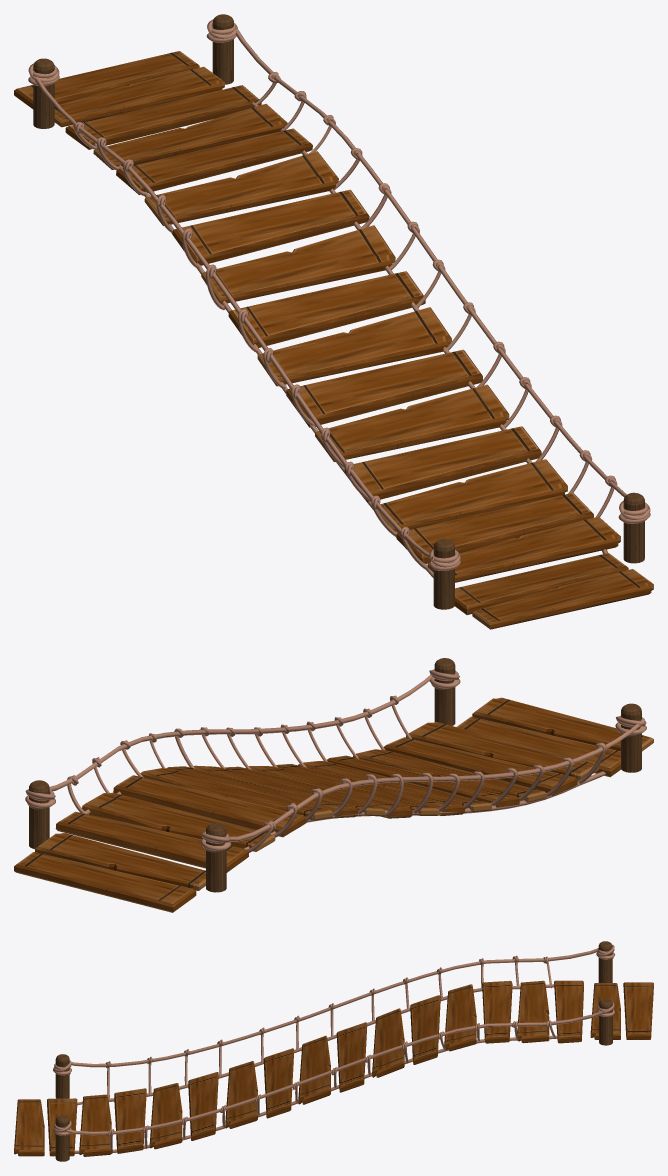
3 views of the same model, one above another, from view 1: azimuth 30°, elevation 25°; view 2: azimuth 150°, elevation 25°; view 3: azimuth 270°, elevation 25° (orthographic). The views are drawn at different scales.
Visible parts, largest first — view 1: 橋1.001; view 2: 橋1.001; view 3: 橋1.001.
Boxes of the visible parts, bbox=[...] form: 橋1.001: bbox=[14, 14, 653, 629]; 橋1.001: bbox=[14, 658, 653, 912]; 橋1.001: bbox=[14, 941, 653, 1161].
Size of the model in its own units: 720 by 754 by 2709.
3 materials, 2 textured.
